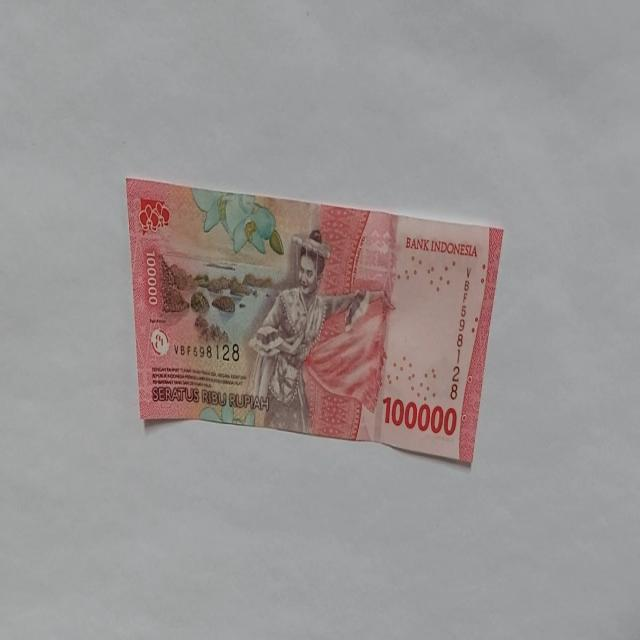seratus ribu rupiah: (124, 175, 504, 468), (245, 228, 368, 427)
